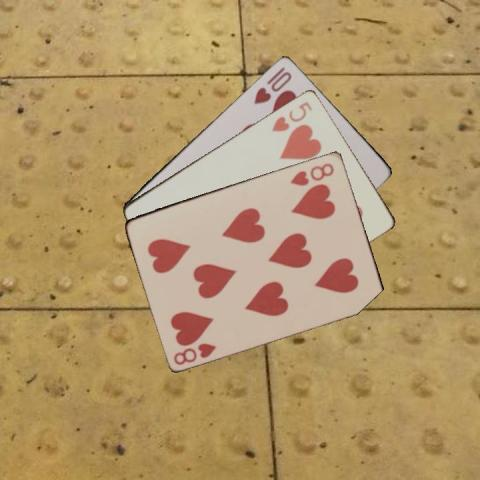10h: (251, 64, 293, 106)
5h: (268, 98, 314, 133)
8h: (287, 160, 336, 188), (171, 339, 218, 366)
